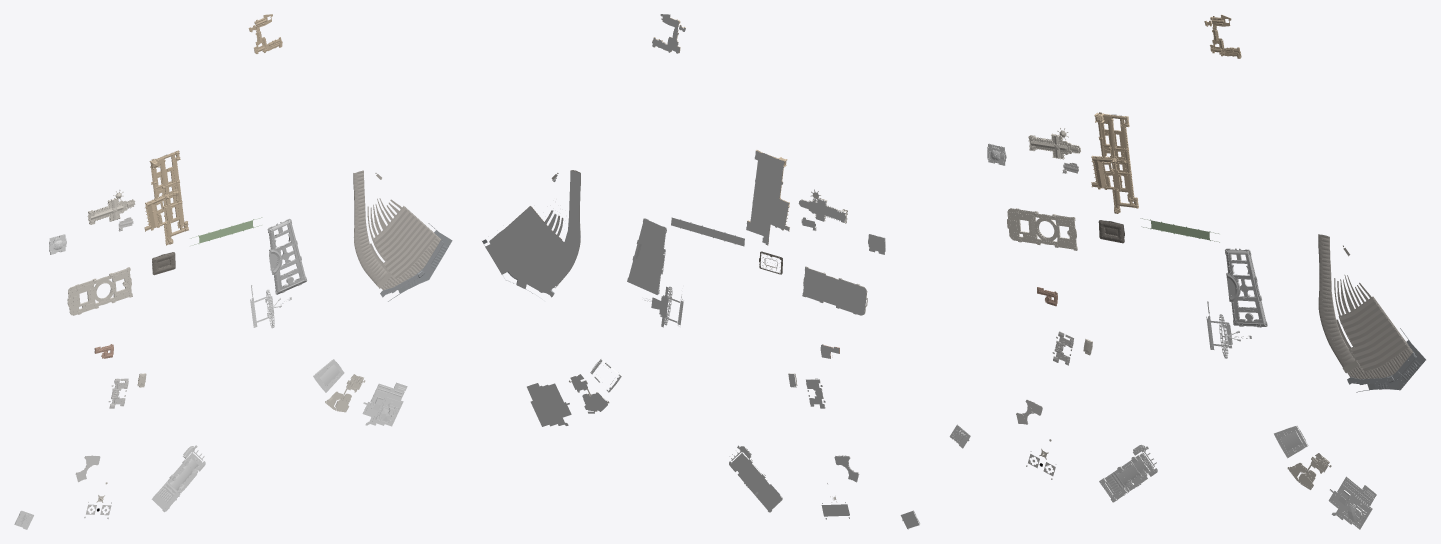
The picture shows the model from 3 angles, left to right: view 1: azimuth 30°, elevation 25°; view 2: azimuth 150°, elevation 25°; view 3: azimuth 330°, elevation 25°; orthographic projection. The views are drawn at different scales.
Bounding box in the file's own units: 8012 × 8274 × 137.
